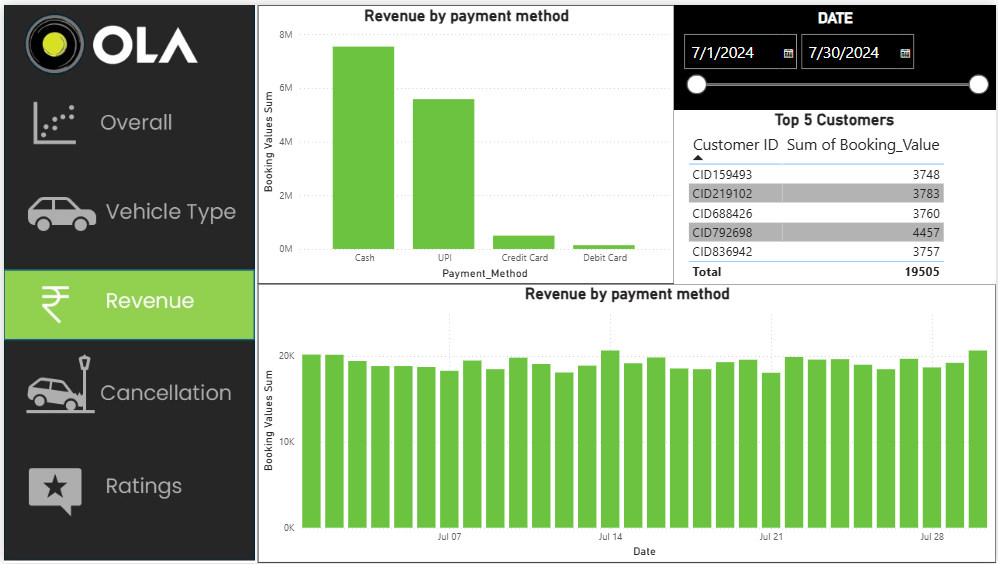

Layout of this report page (visuals, bound fields, positions):
{"tool":"powerbi","page":{"name":"Revenue","canvas":[1280,720],"ordinal":2},"visuals":[{"type":"actionButton","box":[0,210.2,326.5,112.2],"z":0},{"type":"actionButton","box":[0,340.8,326.5,91.8],"z":1000},{"type":"actionButton","box":[0,432.7,326.5,126.5],"z":2000},{"type":"actionButton","box":[0,559.2,326.5,132.7],"z":3000},{"type":"actionButton","box":[0,104.1,326.5,106.1],"z":4000},{"type":"columnChart","title":"Revenue by payment method","fields":{"Y":["Sum(July.Booking_Value)"],"Category":["July.Payment_Method"]},"box":[327.5,0,537.5,360],"z":5000},{"type":"columnChart","title":"Revenue by payment method","fields":{"Y":["Sum(July.Ride_Distance)"],"Category":["July.Date"]},"box":[327.5,360,952.5,360],"z":6000},{"type":"slicer","title":"DATE","fields":{"Values":["July.Date"]},"box":[865,0,415,135],"z":7000},{"type":"tableEx","title":"Top 5 Customers","fields":{"Values":["July.Customer_ID","Sum(July.Booking_Value)"]},"box":[865,135,415,225],"z":8000}]}

Visuals, with their boxes in screenshot pixels (x1, y1, x2, y2), scaled from the page's 1280x720 canvas onto the 998x564 screenshot:
actionButton: select_region(0, 165, 255, 253)
actionButton: select_region(0, 267, 255, 339)
actionButton: select_region(0, 339, 255, 438)
actionButton: select_region(0, 438, 255, 542)
actionButton: select_region(0, 82, 255, 165)
"Revenue by payment method" columnChart: select_region(255, 0, 674, 282)
"Revenue by payment method" columnChart: select_region(255, 282, 997, 563)
"DATE" slicer: select_region(674, 0, 997, 106)
"Top 5 Customers" tableEx: select_region(674, 106, 997, 282)
